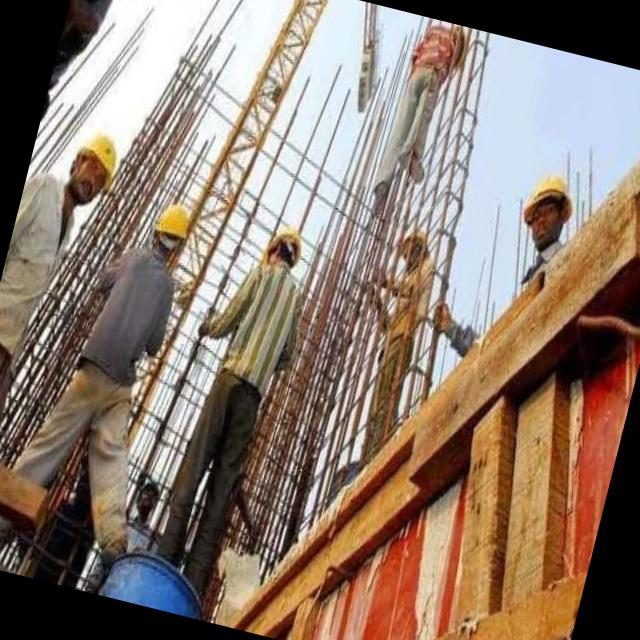Helmet: (72, 127, 130, 189), (510, 172, 580, 223), (153, 198, 195, 246)
